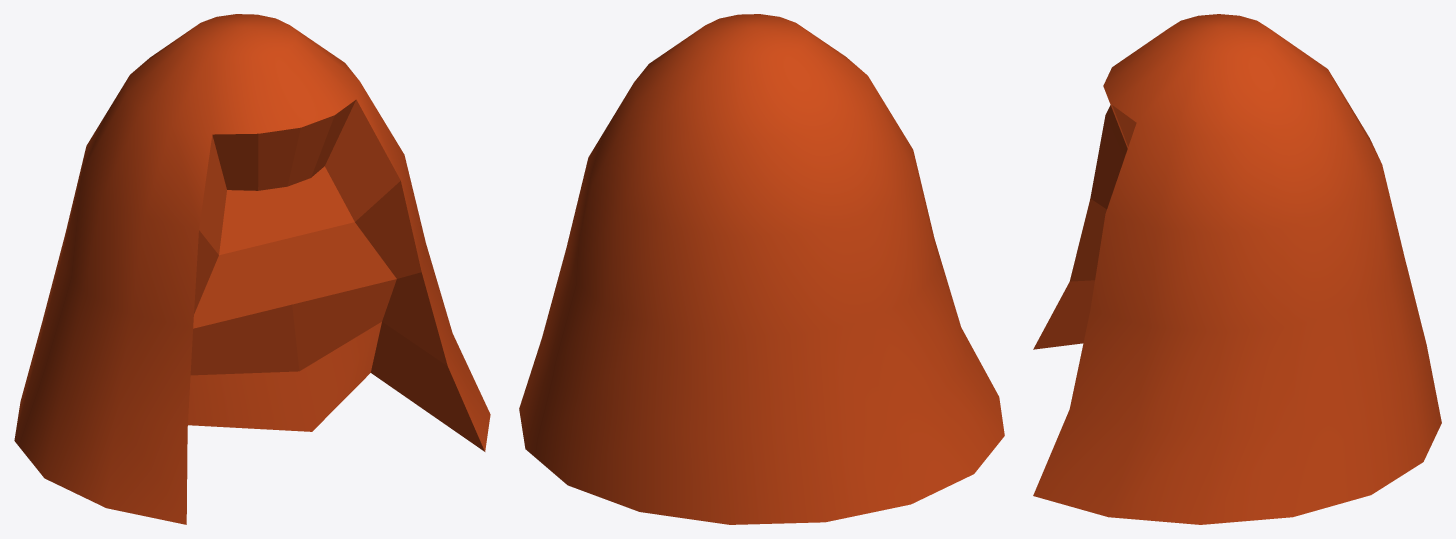
File: hair03.FBX
3 views of the same model, side by side, from view 1: azimuth 30°, elevation 25°; view 2: azimuth 150°, elevation 25°; view 3: azimuth 270°, elevation 25° (orthographic).
Parts seen in each view (by area): view 1: wlosy002; view 2: wlosy002; view 3: wlosy002.
Boxes of the visible parts, <box> form: wlosy002: <box>14,14,490,524</box>; wlosy002: <box>519,14,1004,524</box>; wlosy002: <box>1033,14,1441,524</box>.
Bounding box in the file's own units: 133 × 121 × 113.
